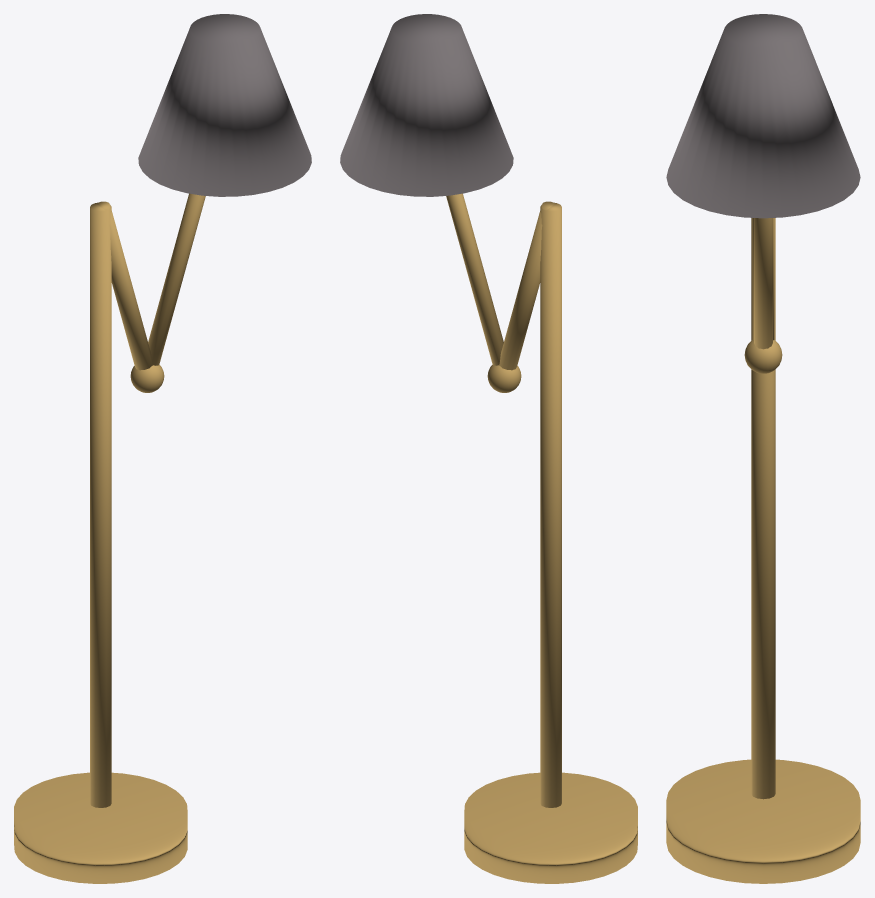
The model's file is candeeiro-articulado-oficina.glb.
3 views of the same model, side by side, from view 1: azimuth 30°, elevation 25°; view 2: azimuth 150°, elevation 25°; view 3: azimuth 270°, elevation 25° (orthographic). The views are drawn at different scales.
Parts seen in each view (by area): view 1: Cúpula orientável, Base, Haste, Braço articulado superior, Braço articulado inferior, Articulação; view 2: Cúpula orientável, Base, Haste, Braço articulado superior, Braço articulado inferior, Articulação; view 3: Cúpula orientável, Base, Haste, Braço articulado superior, Articulação, Braço articulado inferior.
Part boxes in pixels (x1,y1,x2,y2): Cúpula orientável: [138, 14, 311, 196]; Base: [14, 772, 187, 883]; Haste: [90, 202, 111, 807]; Braço articulado superior: [148, 193, 205, 365]; Braço articulado inferior: [96, 201, 152, 370]; Articulação: [130, 365, 164, 392]; Cúpula orientável: [340, 14, 513, 196]; Base: [464, 772, 637, 883]; Haste: [540, 202, 561, 807]; Braço articulado superior: [446, 193, 503, 365]; Braço articulado inferior: [499, 201, 555, 370]; Articulação: [487, 365, 521, 392]; Cúpula orientável: [666, 14, 860, 218]; Base: [666, 759, 860, 883]; Haste: [751, 218, 775, 799]; Braço articulado superior: [754, 218, 772, 349]; Articulação: [744, 340, 782, 373]; Braço articulado inferior: [752, 218, 774, 340].
Size of the model in its own units: 0.5256 by 1.44 by 0.288.
